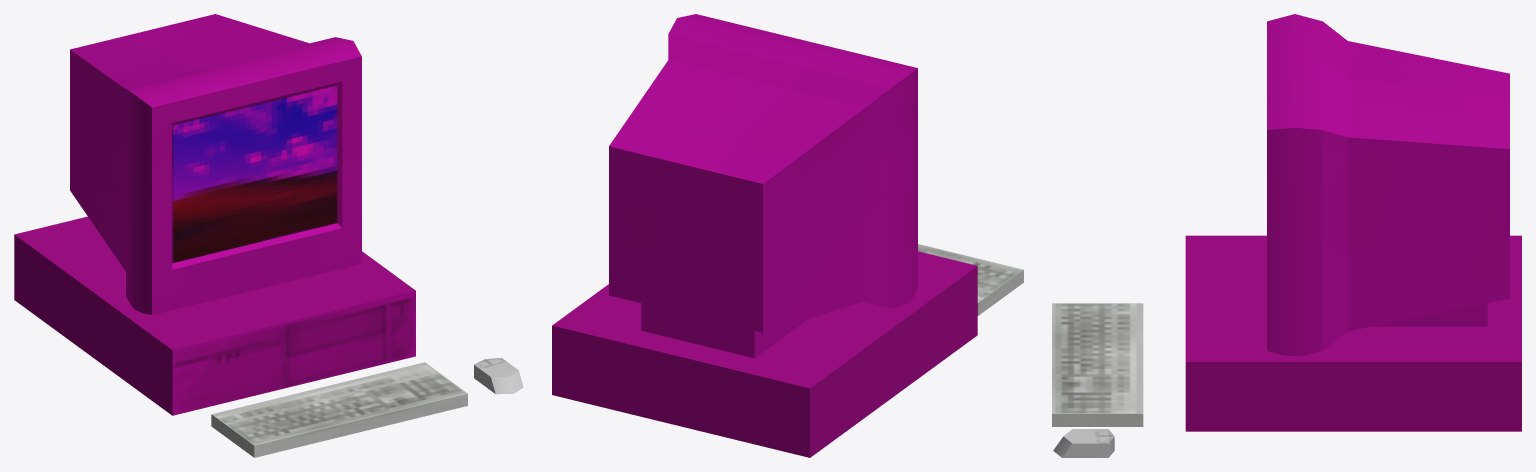
The model's file is SM_Computer.glb.
3 views of the same model, side by side, from view 1: azimuth 30°, elevation 25°; view 2: azimuth 150°, elevation 25°; view 3: azimuth 270°, elevation 25° (orthographic). The views are drawn at different scales.
Visible parts, largest first — view 1: SM_Computer; view 2: SM_Computer; view 3: SM_Computer.
Boxes of the visible parts, box(x1,y1,x2,y2) form: SM_Computer: box(14, 14, 523, 457); SM_Computer: box(552, 14, 1023, 457); SM_Computer: box(1052, 14, 1521, 457).
Bounding box in the file's own units: 0.489 × 0.4489 × 0.6386.
Materials: 1 (1 with a texture image).
